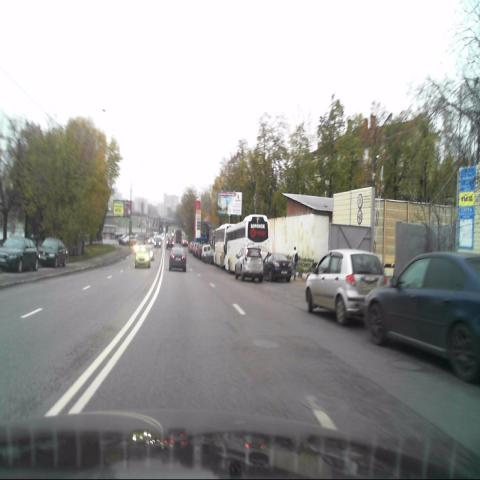3_13: (356, 208, 362, 225)
3_24: (356, 194, 363, 207)
